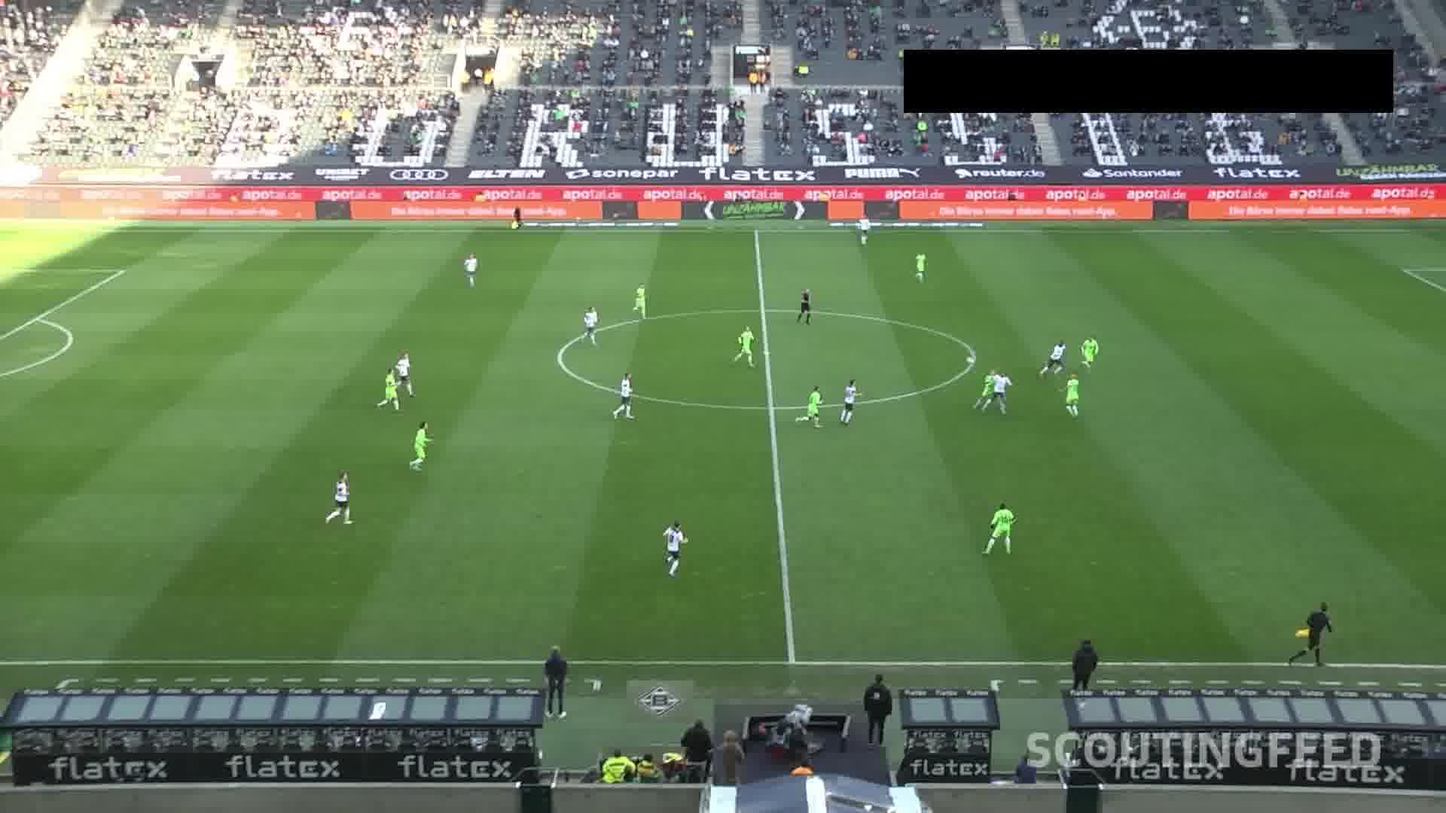ball: (959, 351, 977, 370)
coach_staff: (850, 666, 900, 748), (1059, 642, 1108, 708), (530, 640, 574, 710)
player: (649, 517, 693, 575), (318, 469, 360, 529), (603, 361, 643, 422), (984, 494, 1024, 552), (403, 417, 443, 469), (1052, 365, 1088, 414), (792, 384, 825, 427), (832, 376, 862, 420), (734, 319, 759, 371), (1041, 331, 1066, 379), (905, 251, 940, 285), (579, 301, 605, 343), (377, 366, 402, 404), (628, 276, 651, 317), (395, 351, 419, 390), (850, 216, 875, 253), (461, 245, 483, 284), (1081, 330, 1103, 369), (992, 374, 1013, 414), (980, 363, 993, 406)
referee: (1294, 595, 1332, 672), (790, 285, 820, 327), (503, 201, 528, 231)
